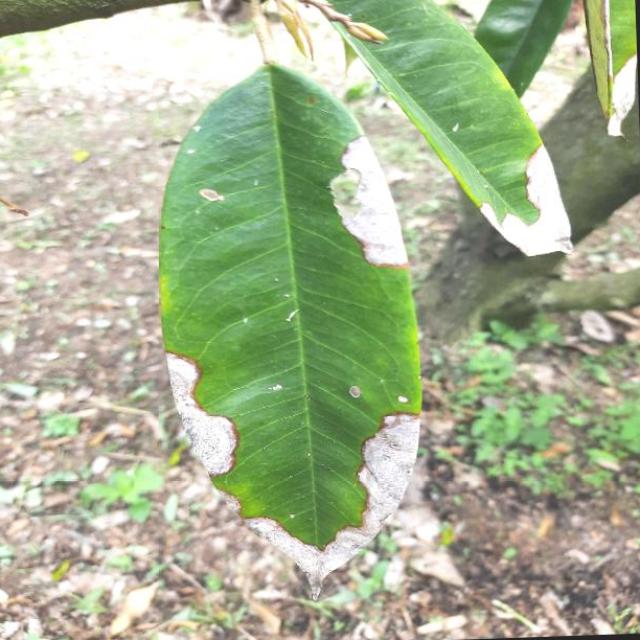Leaf Blight: (146, 51, 434, 596), (302, 0, 582, 282)
